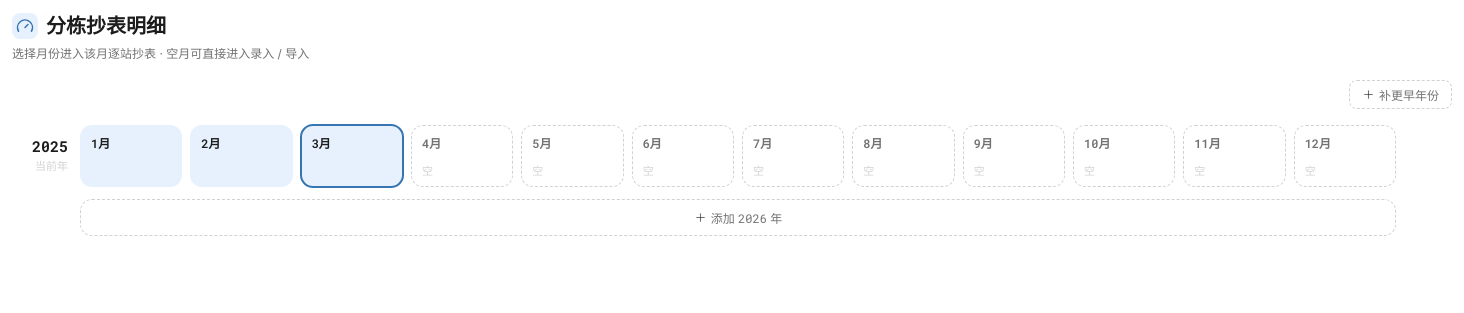
Scenario: 光伏分栋抄表 · 选期动线 › 顶栏「换月」回矩阵，年月下拉已不存在
Click the button with class "bmm-card" showing "3月" at x=352, y=156, box [301,125,403,187]
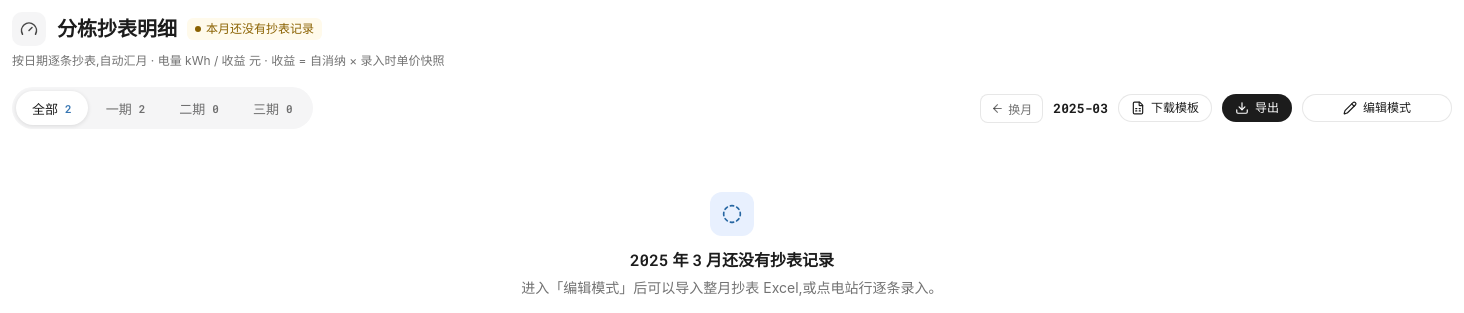
expect the text "2025-03" is shown: met, box [1053,98,1108,118]
Click the button "换月" at x=1012, y=108, box [980,94,1043,122]
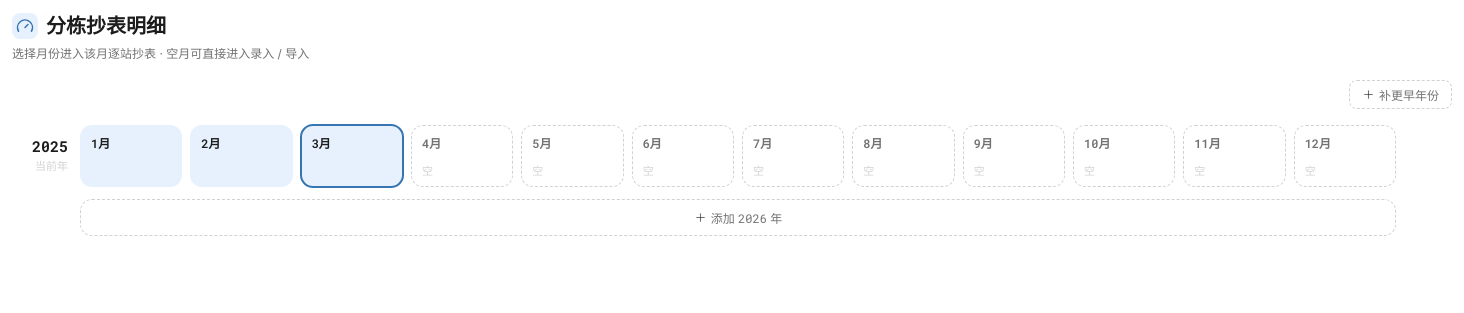
expect the element with class "fmg" is shown: met
